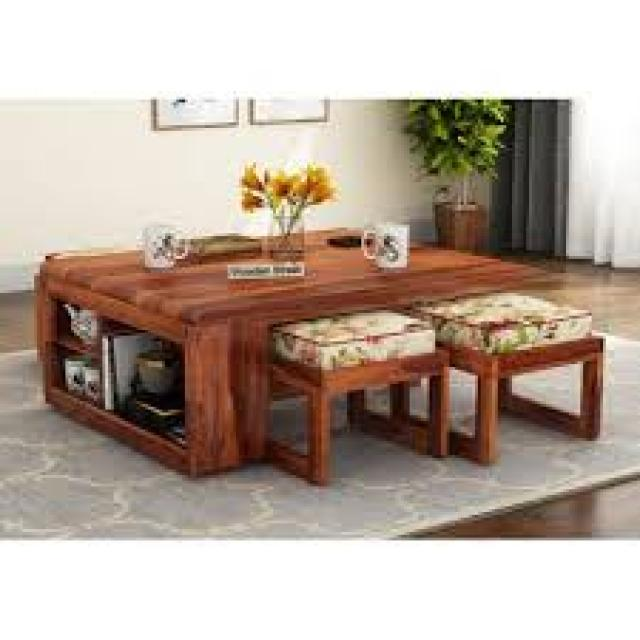obstacle: (23, 198, 608, 346), (425, 255, 634, 480), (251, 293, 460, 482)
